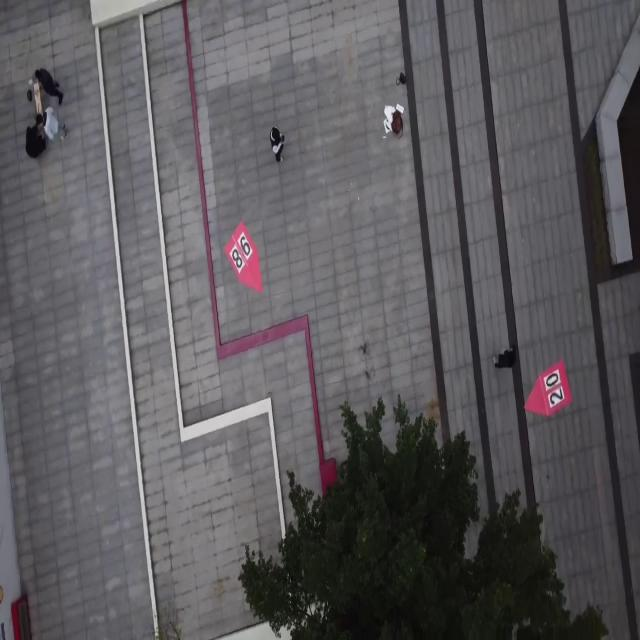-sign-: (524, 358, 572, 418), (224, 220, 262, 294)
